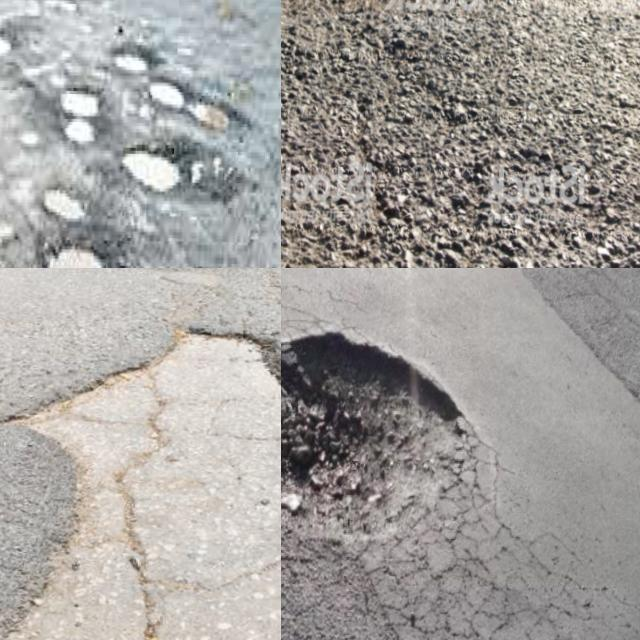Potholes: (0, 286, 281, 640), (281, 294, 494, 594), (106, 33, 250, 211), (16, 53, 118, 240), (281, 0, 471, 59), (25, 207, 159, 268), (0, 3, 49, 93), (62, 0, 156, 28)
